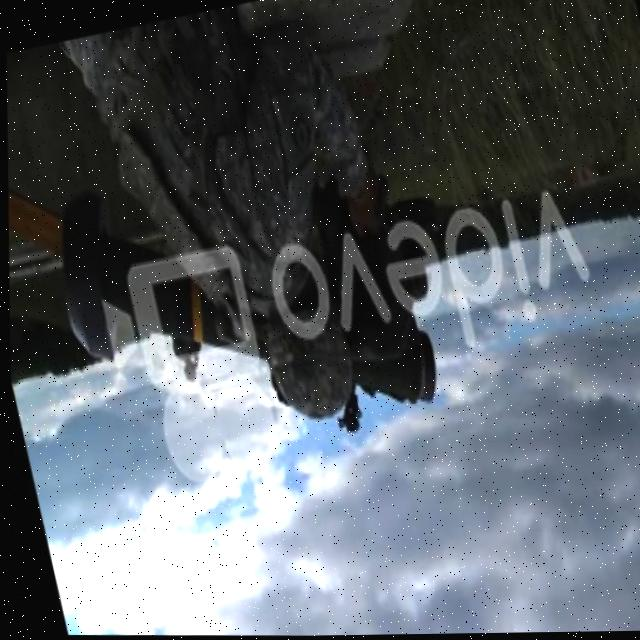rocket: (34, 169, 265, 400)
